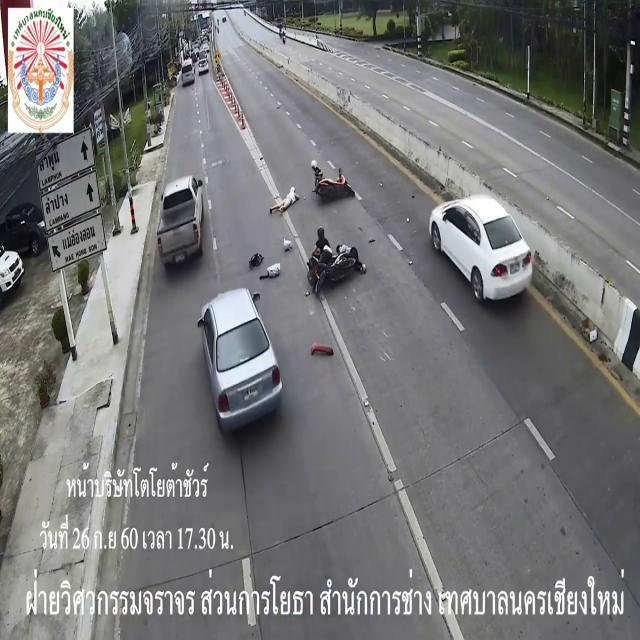multiple_accident: (253, 95, 402, 310)
normal: (178, 273, 318, 453), (418, 157, 545, 318), (143, 148, 215, 283)
